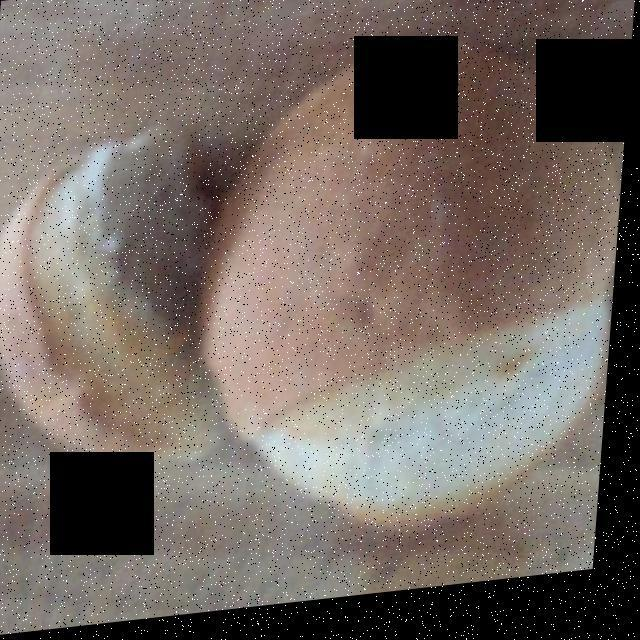bread: (4, 43, 611, 551), (6, 65, 616, 565), (7, 27, 598, 540)
